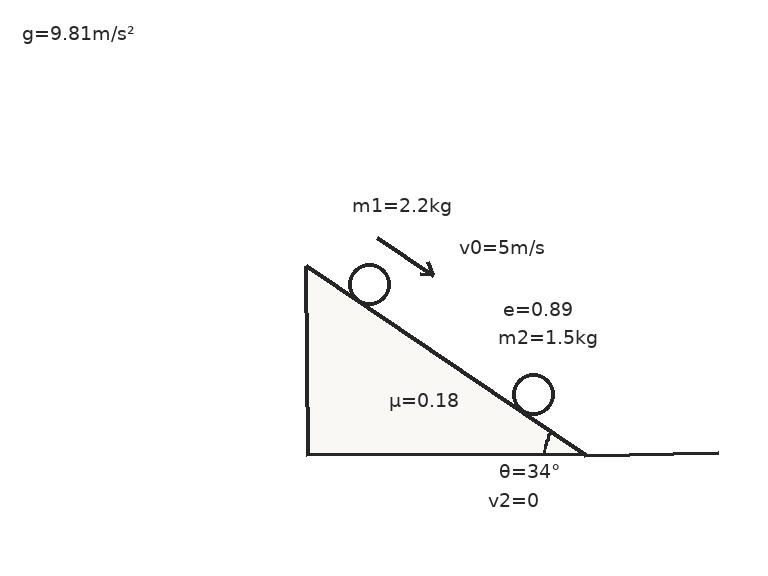ball: (346, 261, 392, 307), (510, 371, 556, 417)
ramp: (304, 265, 586, 456)
